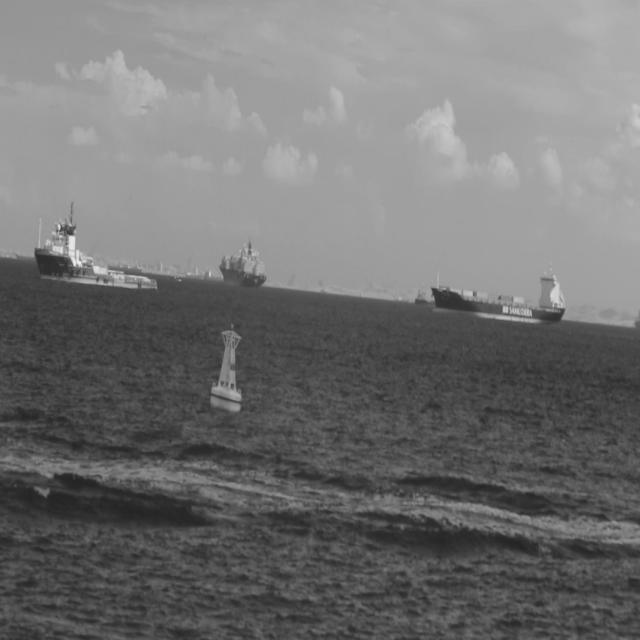buoy: (208, 320, 242, 415)
ship: (33, 198, 158, 292), (431, 258, 566, 326), (218, 235, 268, 289), (414, 283, 436, 304), (108, 262, 142, 274), (204, 264, 224, 281), (167, 273, 181, 282)
